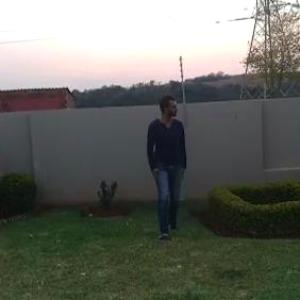follow: (146, 86, 196, 260)
